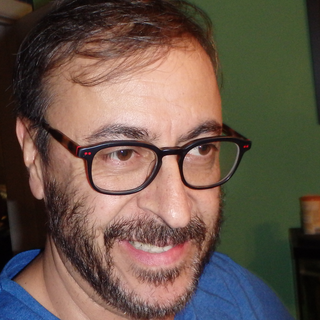eye: (185, 135, 222, 162), (100, 141, 143, 164)
